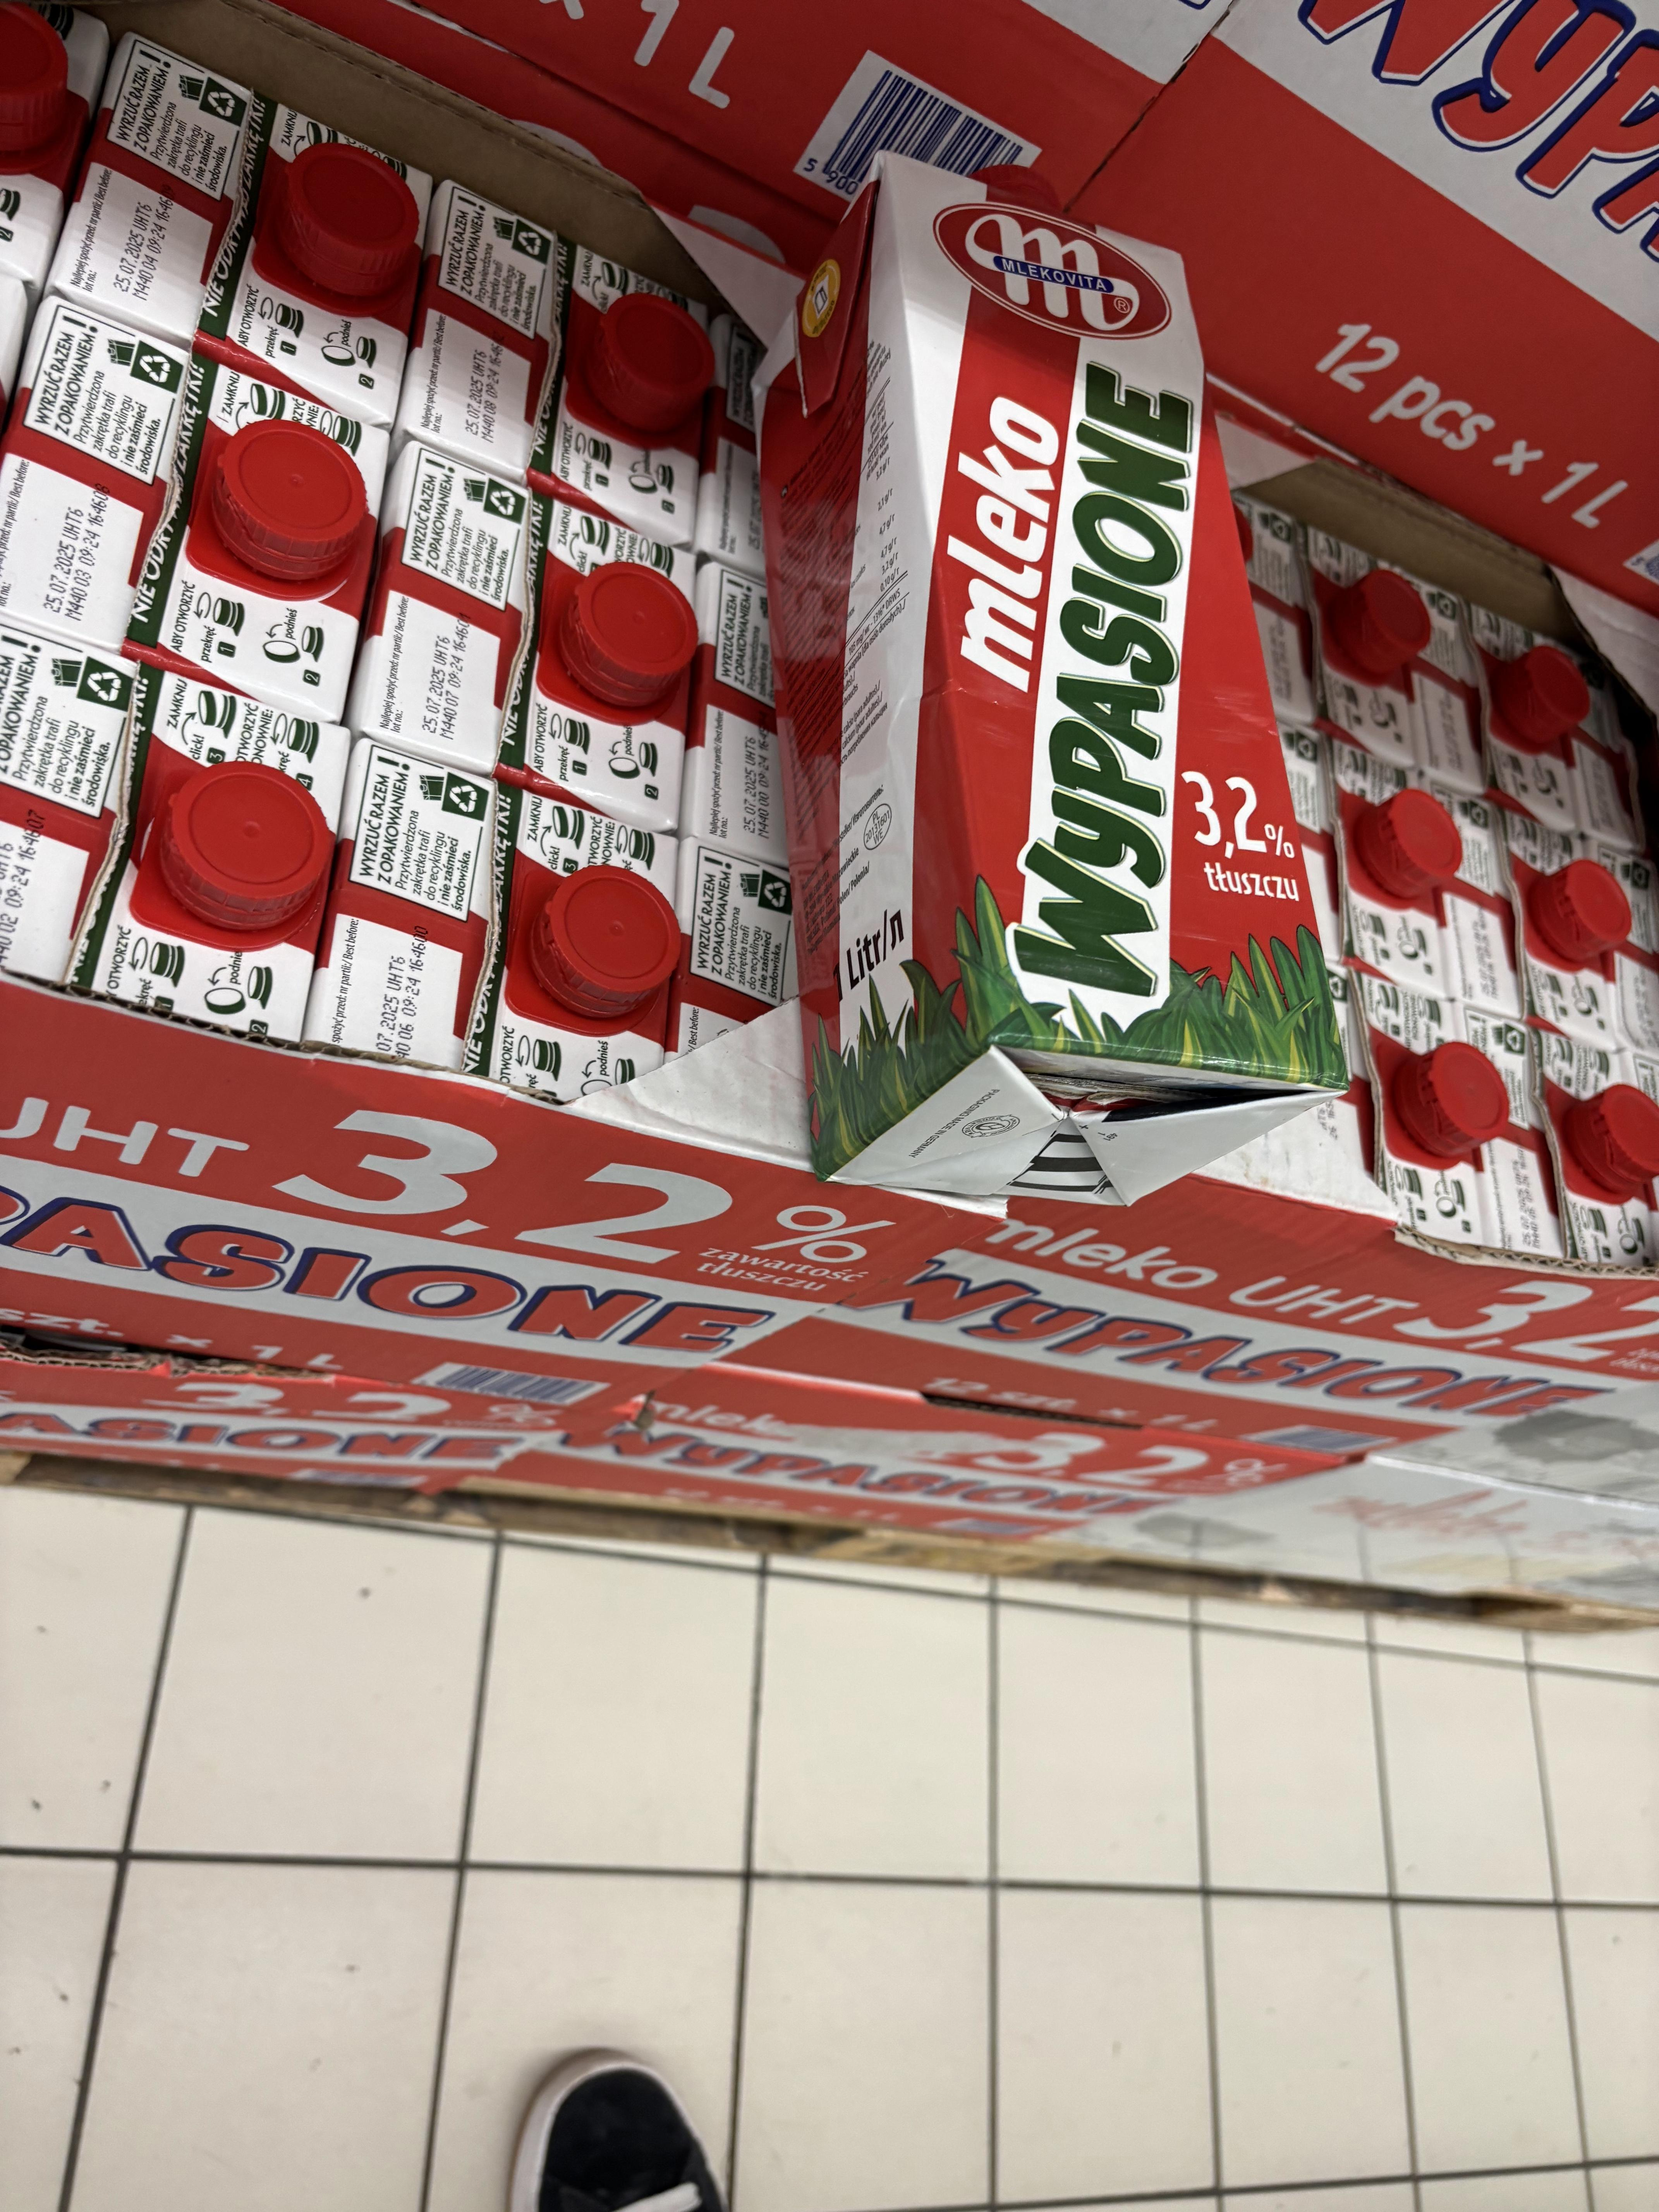Milk: (772, 162, 1300, 1163)
